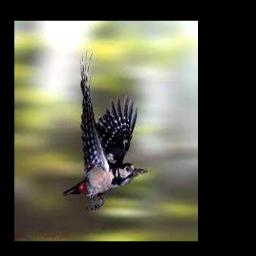Woodpecker: (62, 49, 148, 209)
